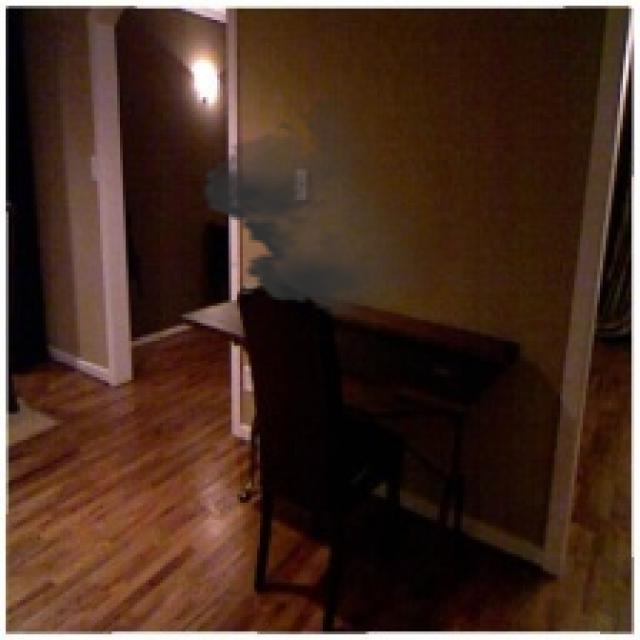Smoke: (191, 88, 463, 323)
